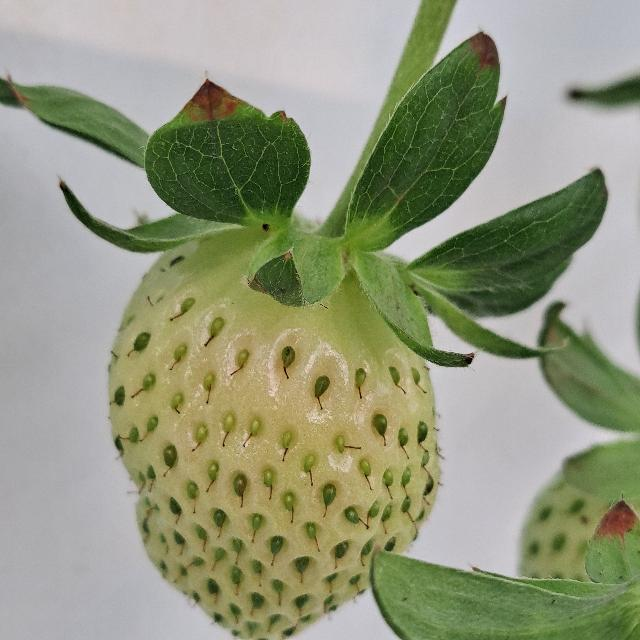Health_25: (107, 227, 441, 639)
